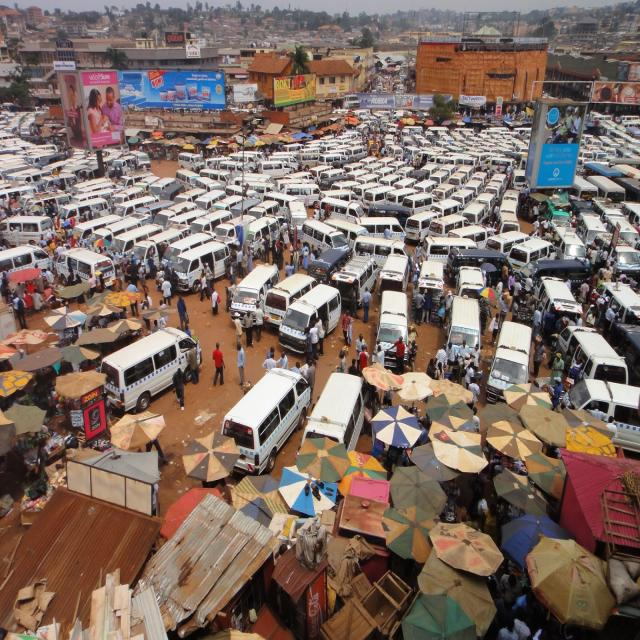MiniBus taxi: (218, 366, 316, 481), (94, 325, 206, 419), (276, 284, 345, 354), (173, 240, 232, 296)
Pedestrians: (211, 338, 227, 386), (172, 367, 188, 412), (233, 343, 248, 386)
